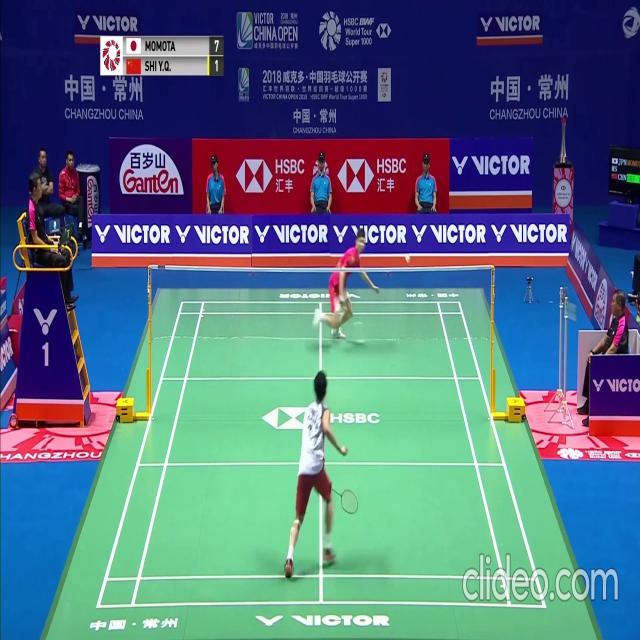Shuttlecock: (405, 256, 410, 263)
